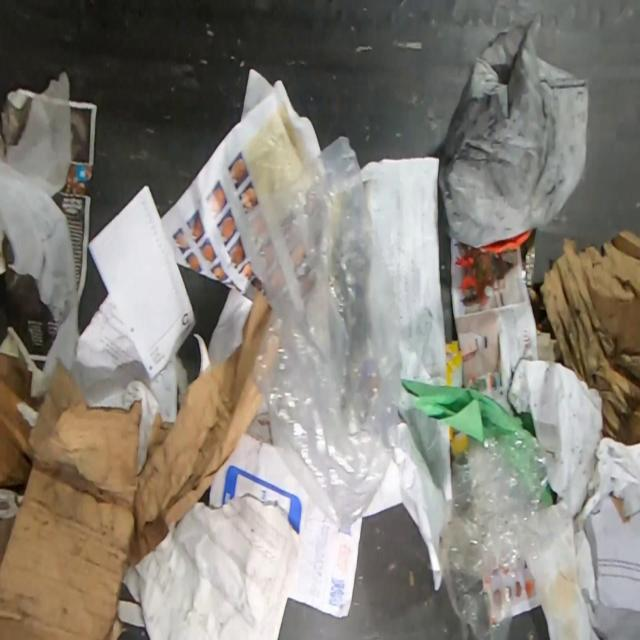cardboard: (1, 295, 272, 636)
soft_plastic: (240, 135, 403, 524), (438, 416, 548, 637)
